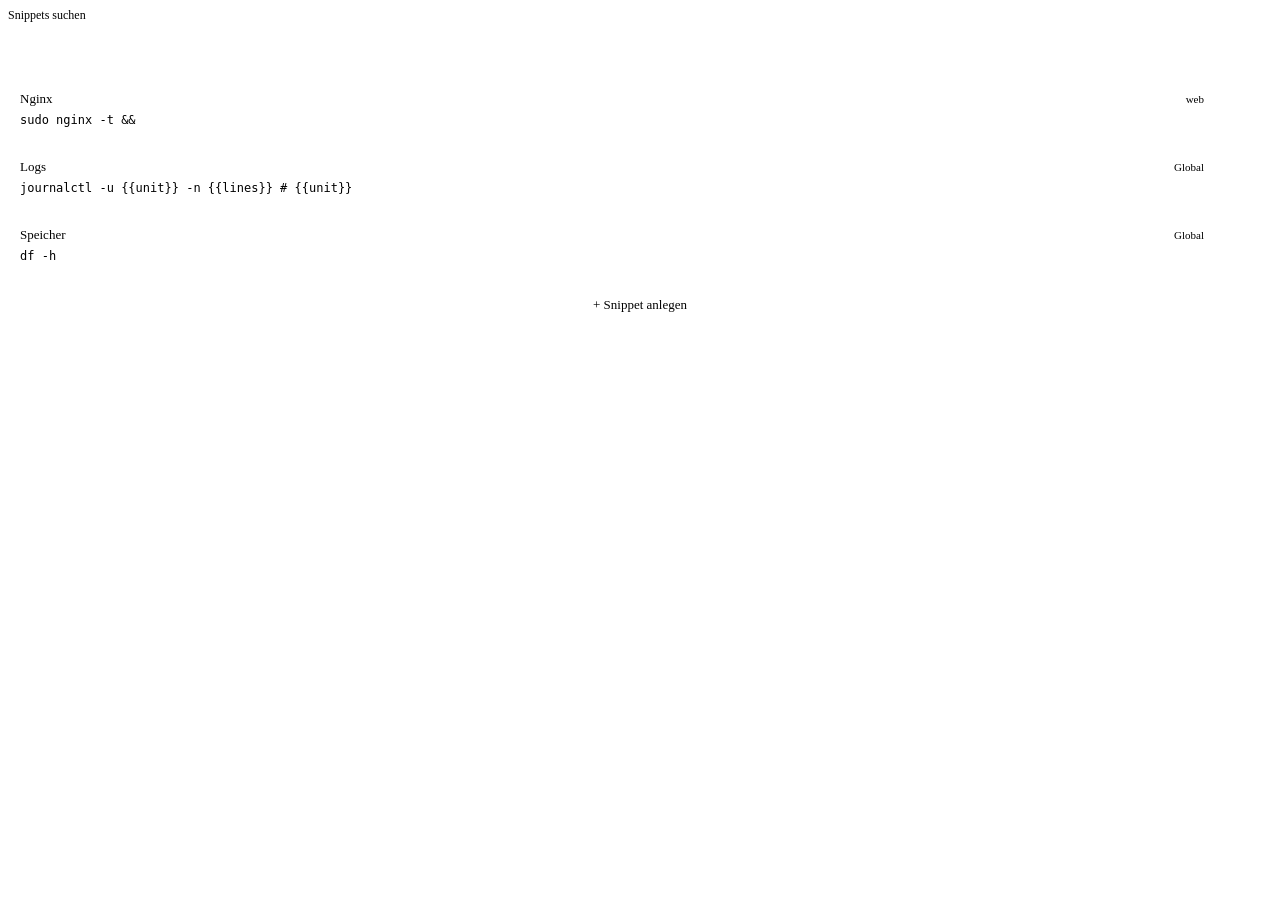
SnippetsPanel › asks for placeholder values first; cancel sends nothing
The image size is (1280, 900).
Click the button with aria-label "Logs einfügen": point(186, 188) x1=8 y1=147 x2=1272 y2=207
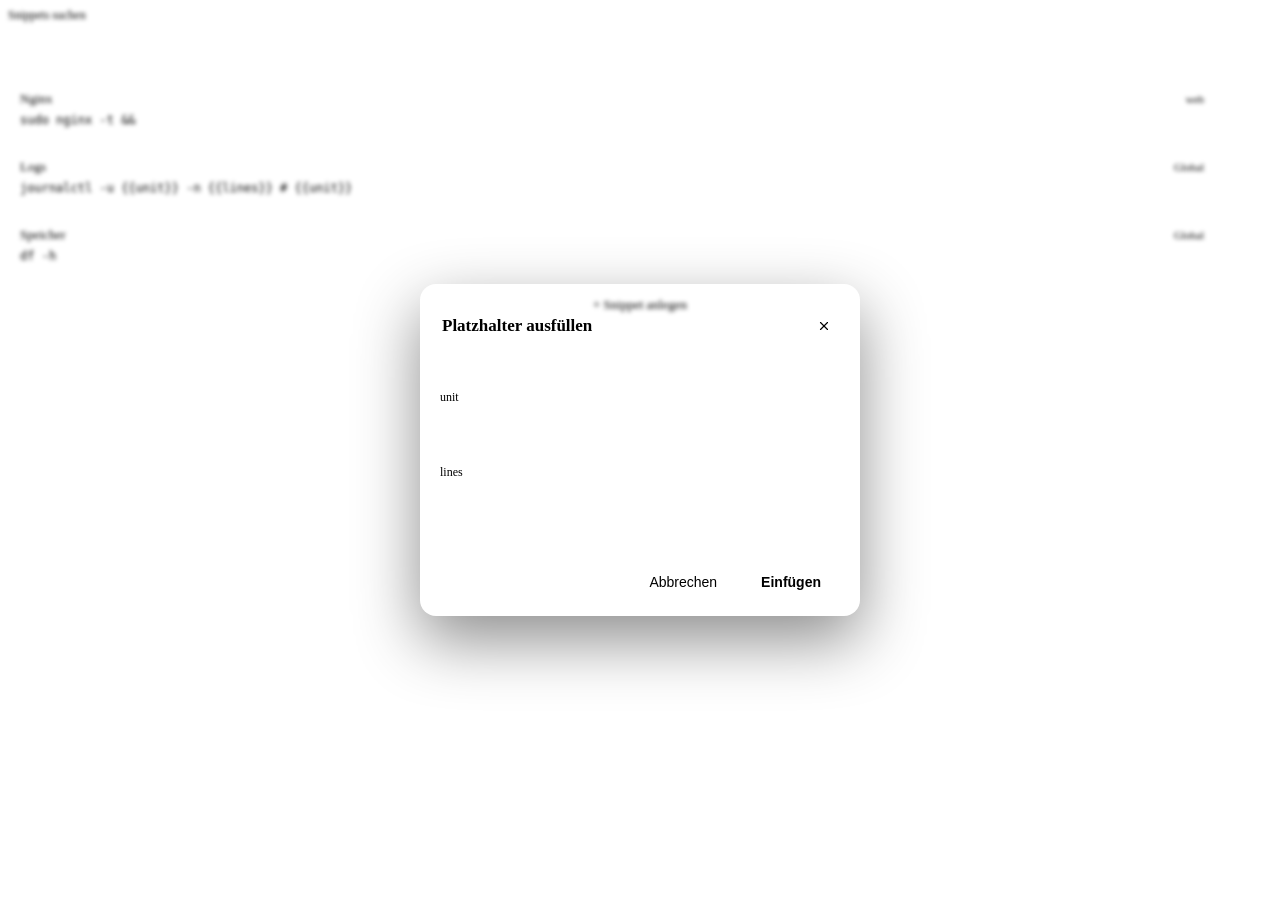
Click the button "Abbrechen": point(683, 582) x1=632 y1=562 x2=734 y2=602
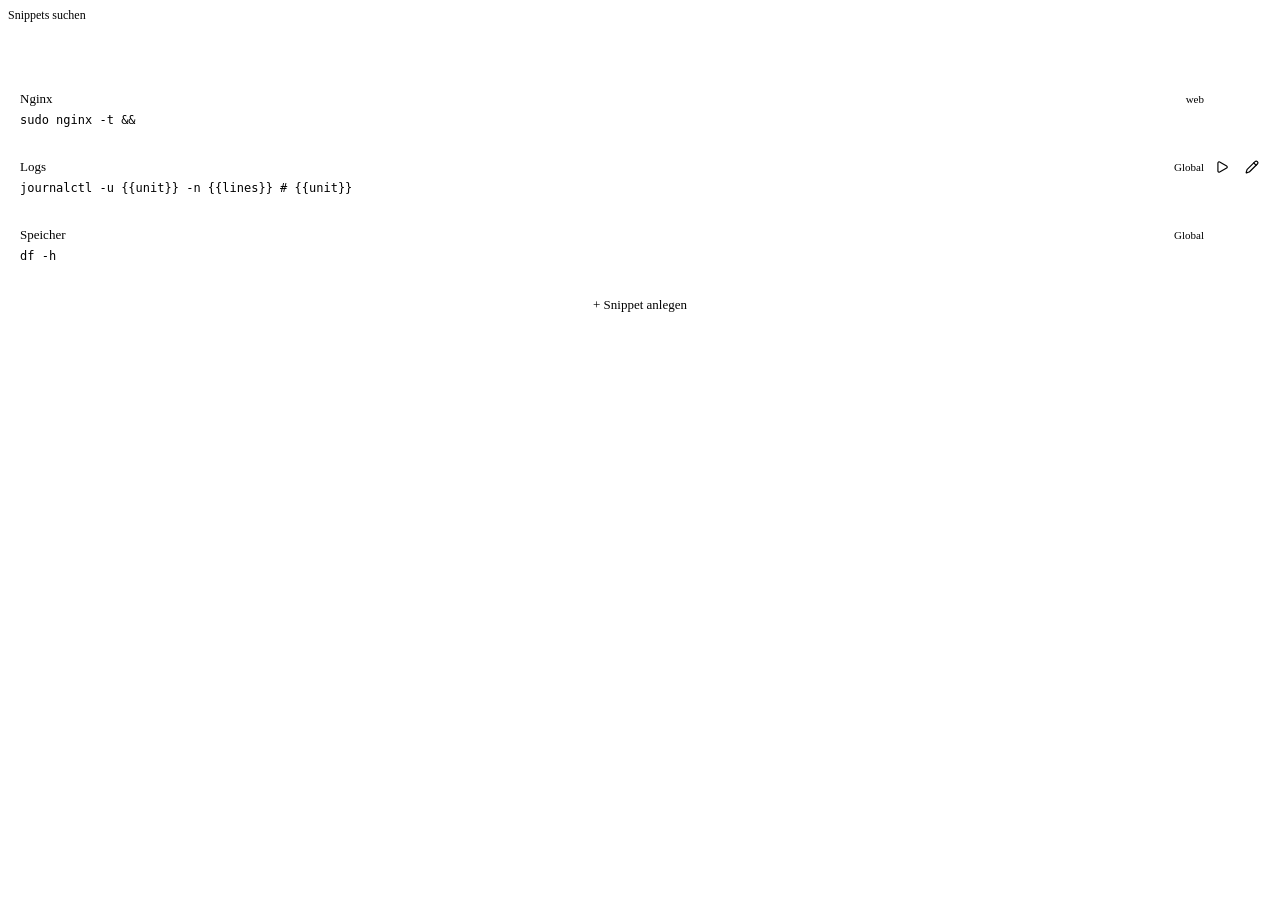
Expected: the dialog is gone
Click the button named "Ausführen": point(1222, 167) x1=1208 y1=153 x2=1236 y2=181
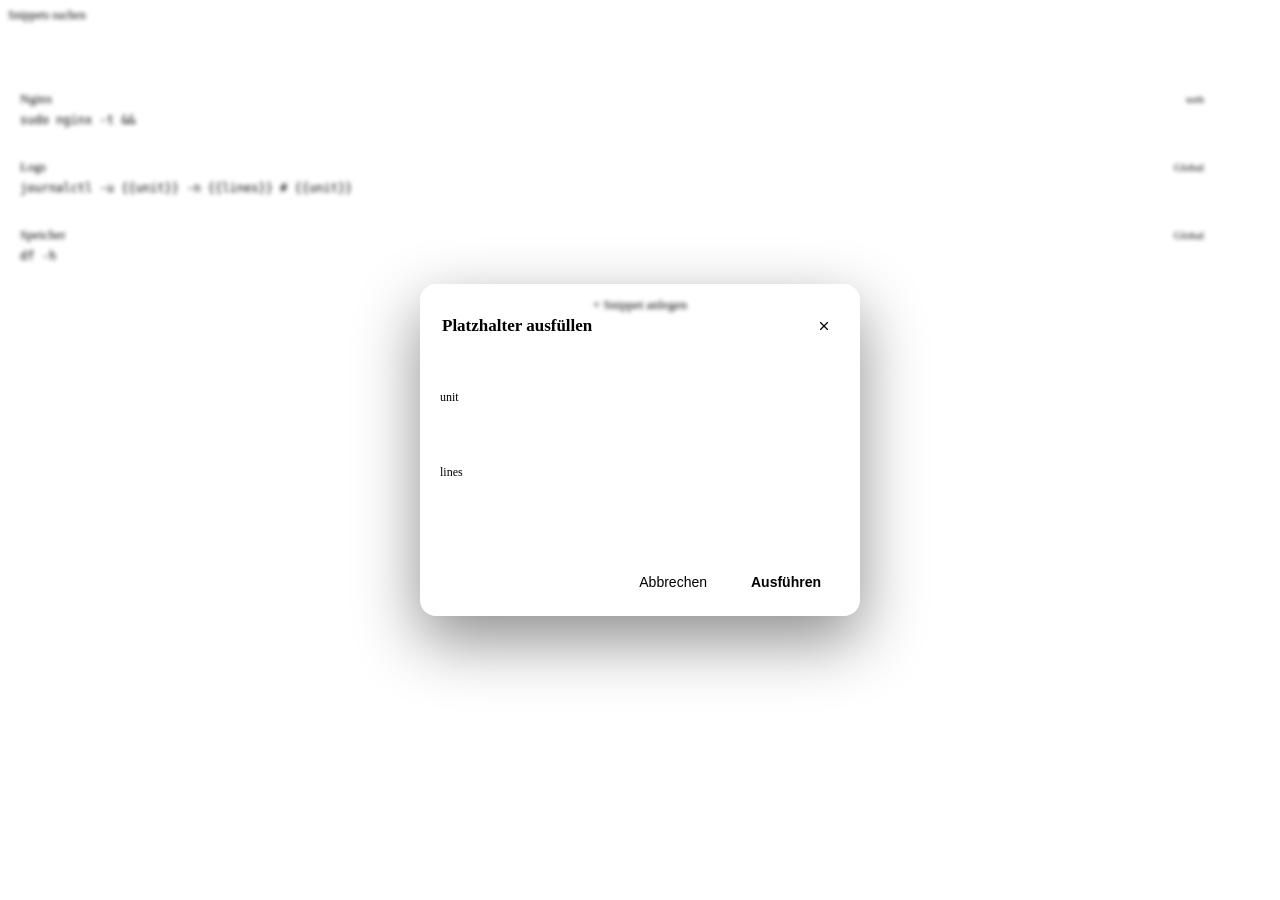
In the field labelled "unit": point(650, 431) x1=440 y1=411 x2=860 y2=451, type "nginx"
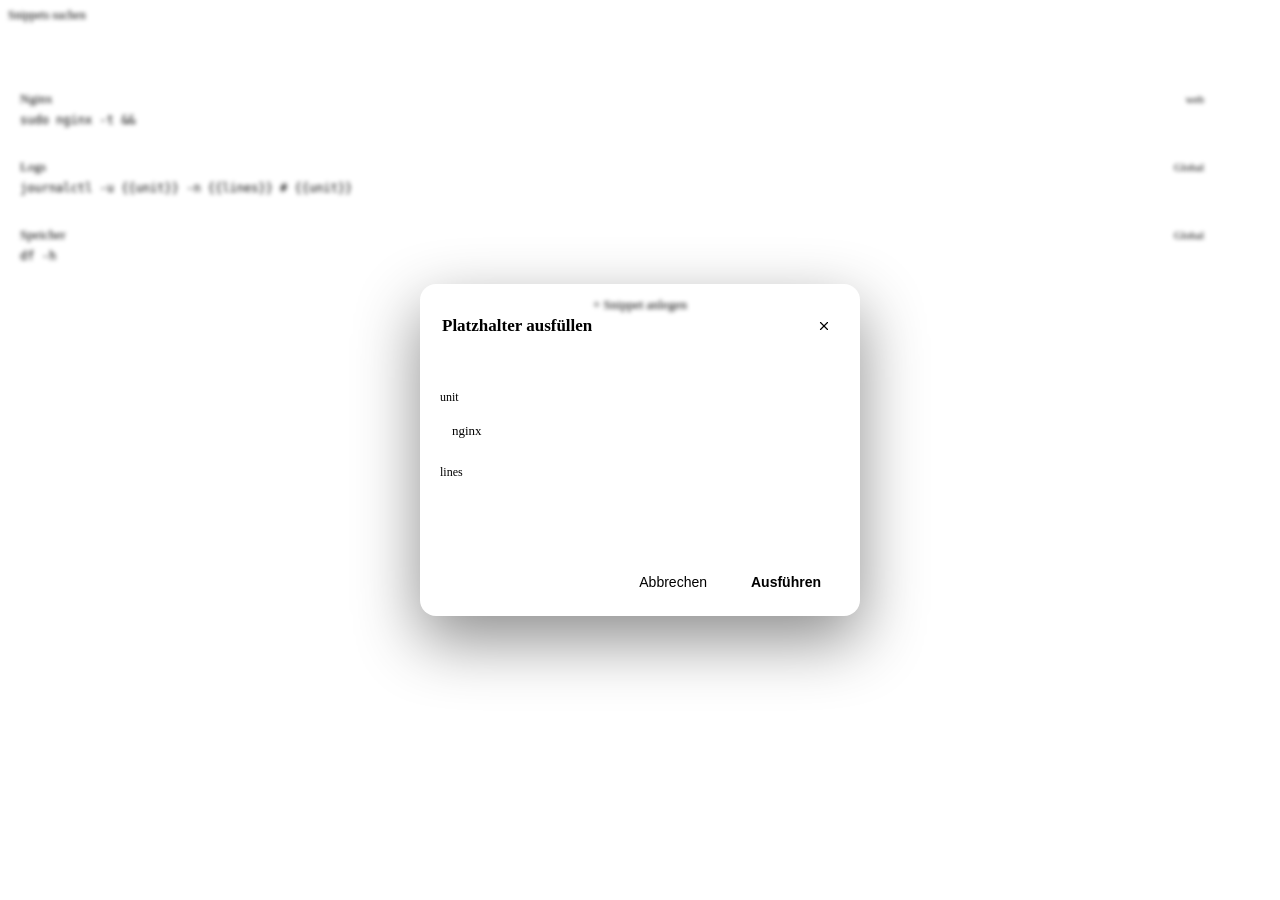
In the field labelled "lines": point(650, 506) x1=440 y1=486 x2=860 y2=526, type "50"
Then press Enter
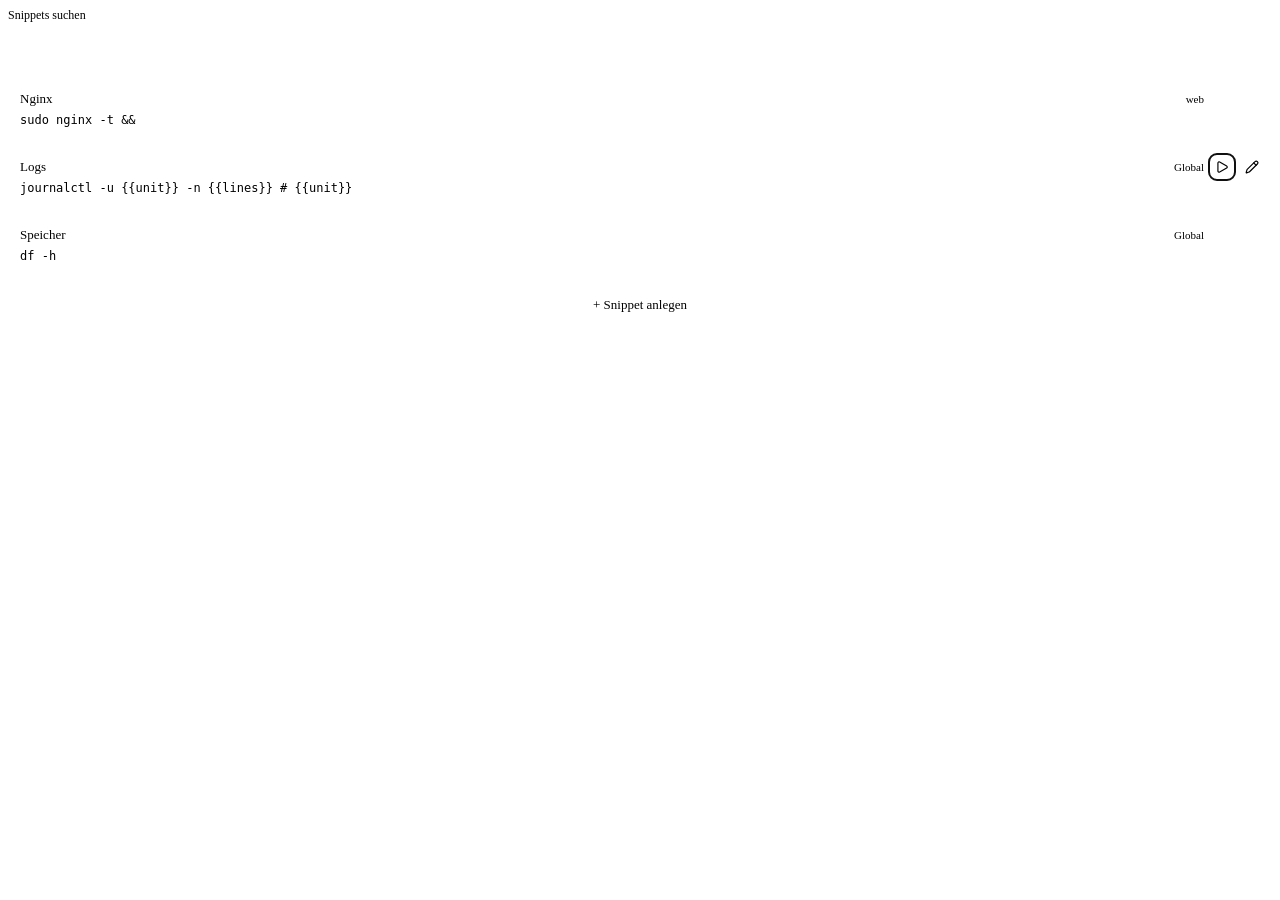
Expected: the dialog is gone
